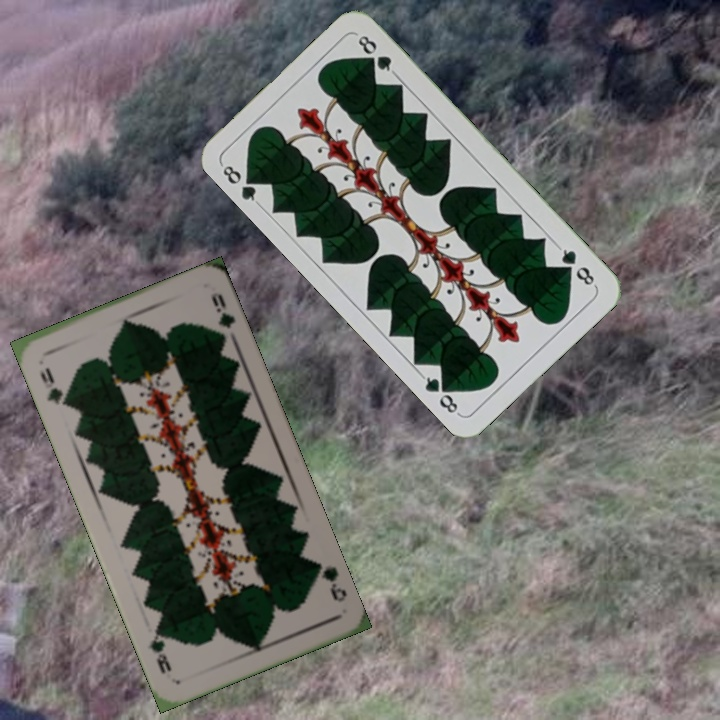G8: (217, 160, 263, 208), (553, 242, 599, 289)
G9: (308, 557, 350, 605), (36, 362, 72, 409)
